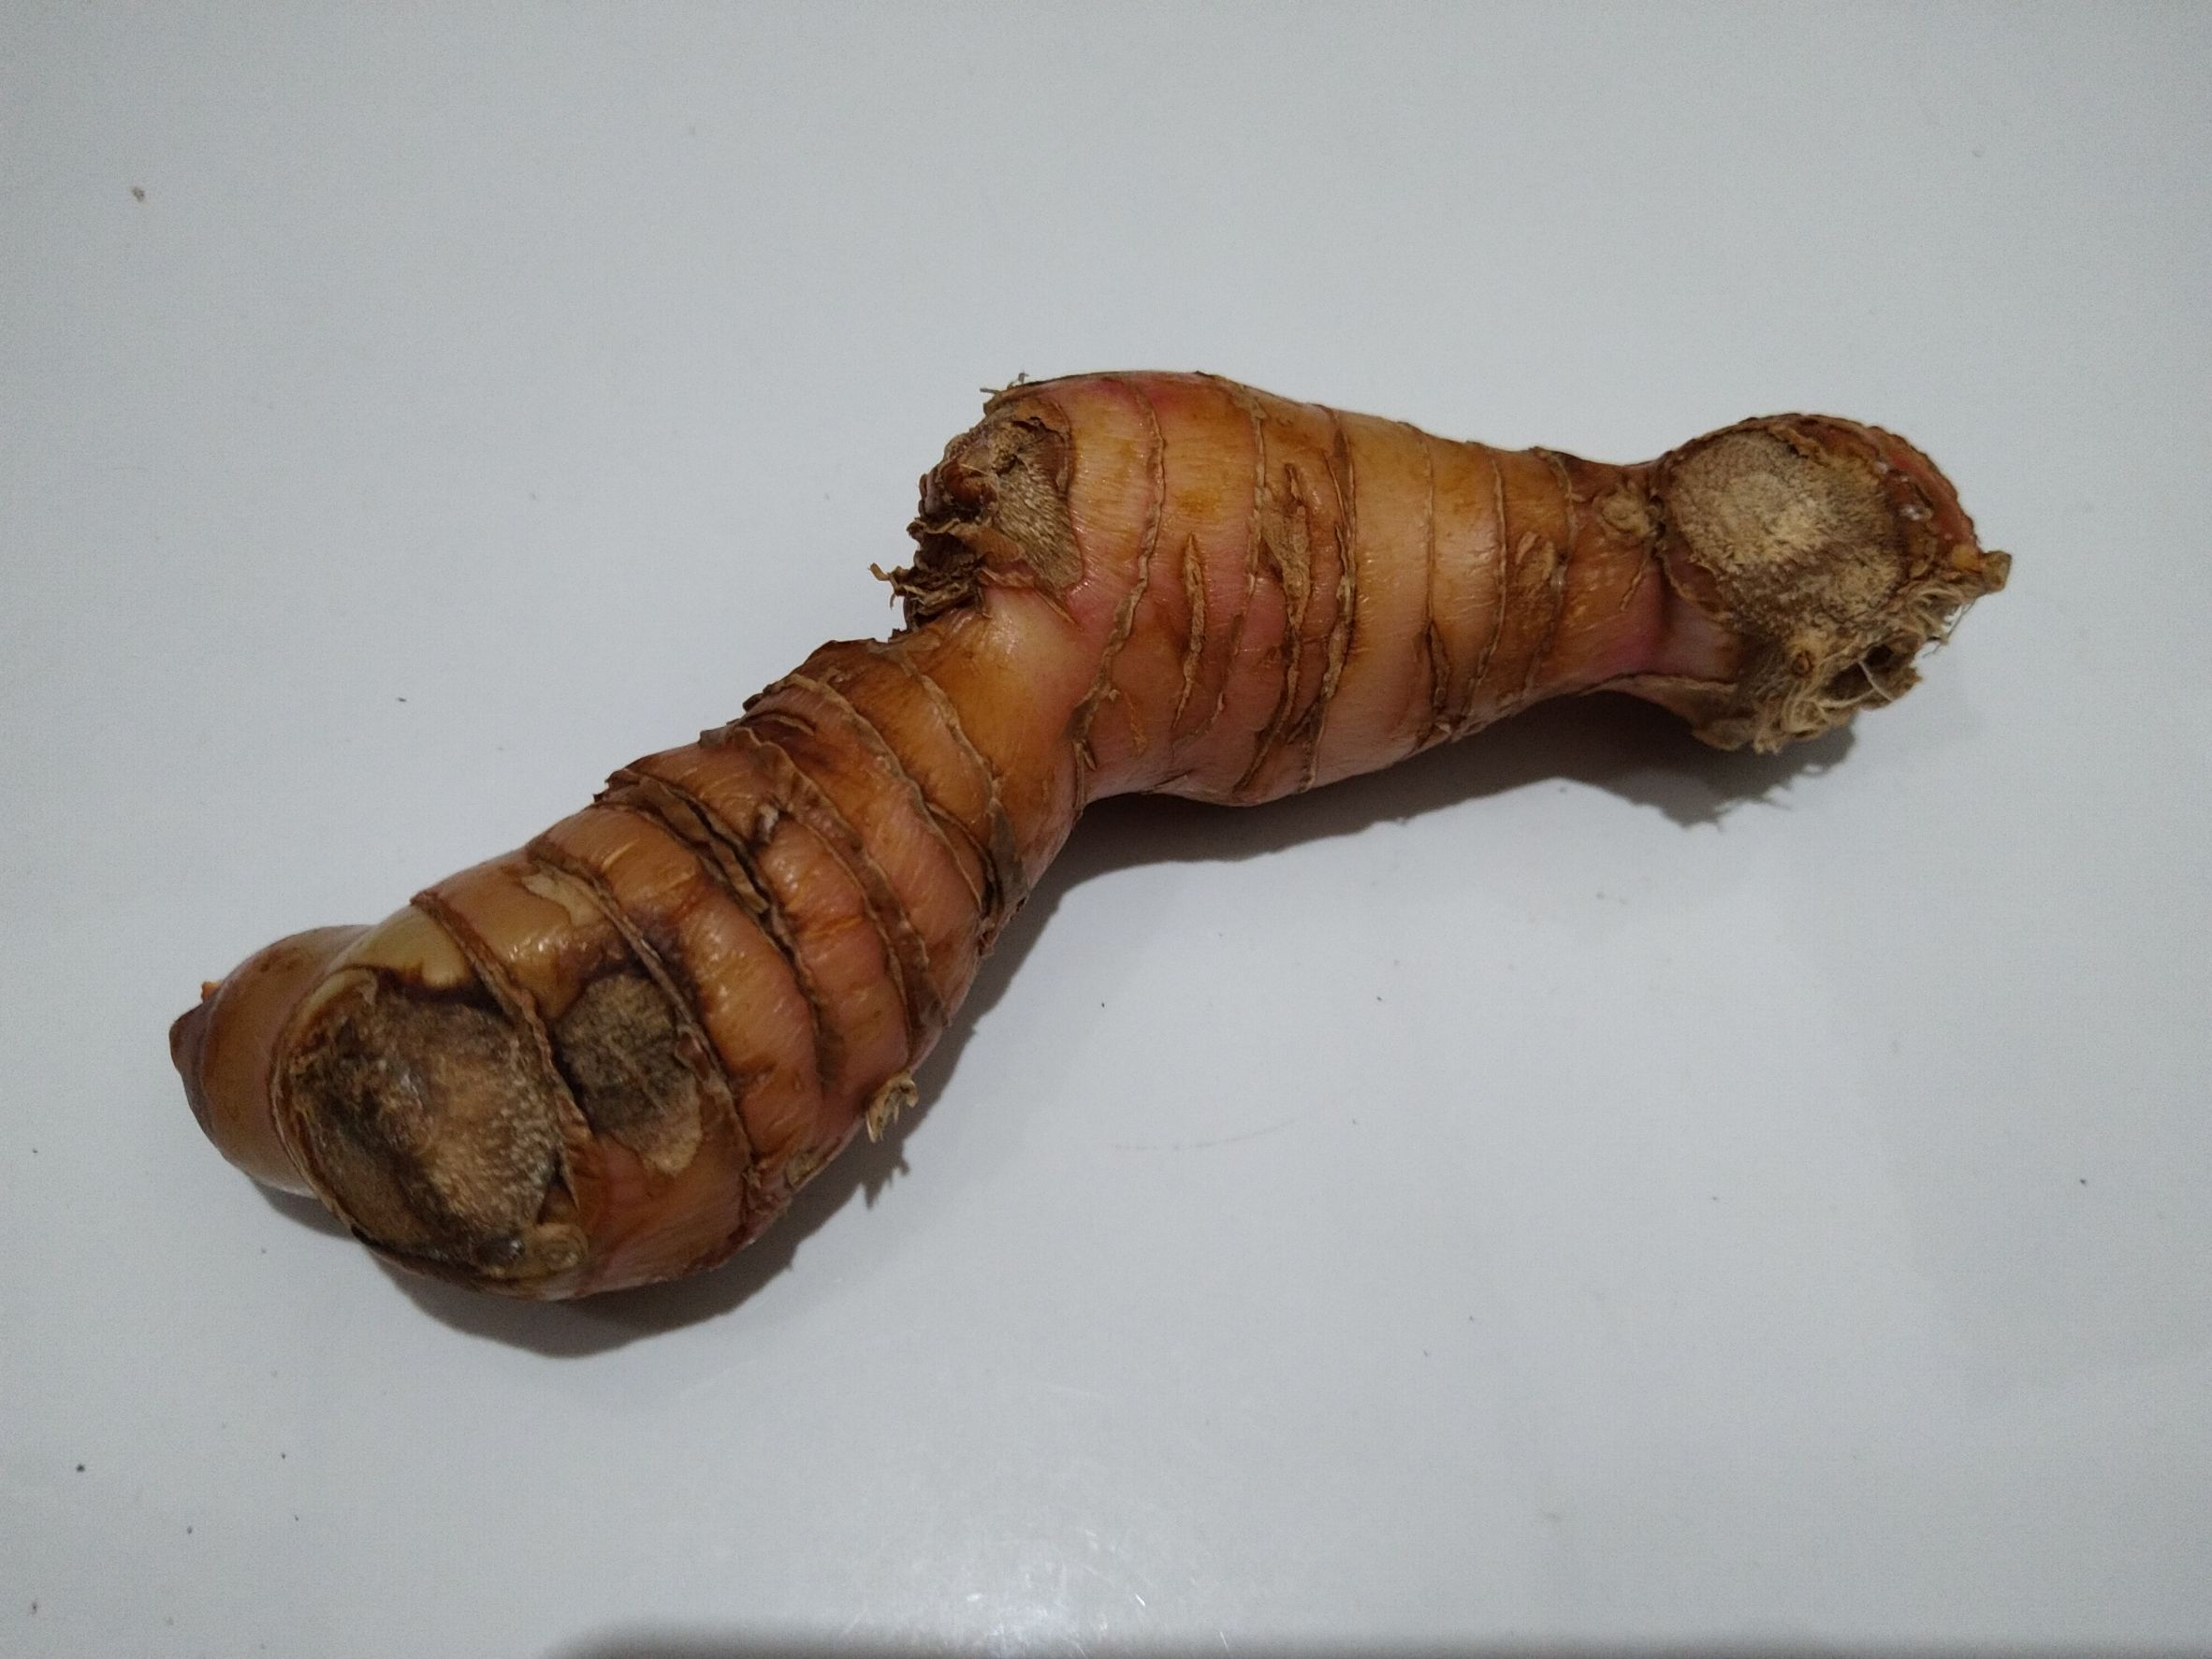Lengkuas: (169, 383, 1994, 1309)
